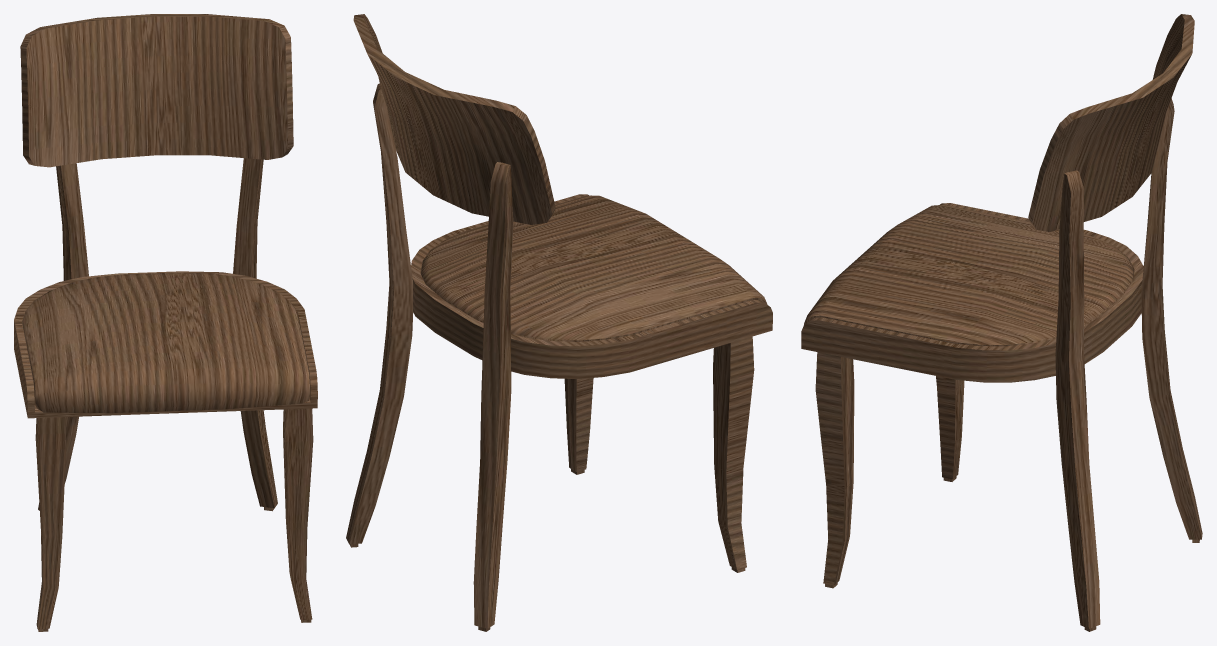
Rendered from darkbrownChair.glb.
The picture shows the model from 3 angles, left to right: view 1: azimuth 30°, elevation 25°; view 2: azimuth 150°, elevation 25°; view 3: azimuth 270°, elevation 25°; orthographic projection. The views are drawn at different scales.
Parts seen in each view (by area): view 1: bk, top2, leg, bk leg, top; view 2: top2, bk leg, bk, top, leg; view 3: top2, bk leg, bk, top, leg.
Part boxes in pixels (left/top/right/bottom): bk: left=20, top=14, right=293, bottom=167; top2: left=23, top=272, right=309, bottom=413; leg: left=35, top=408, right=313, bottom=631; bk leg: left=38, top=158, right=277, bottom=511; top: left=14, top=271, right=317, bottom=418; top2: left=421, top=195, right=766, bottom=341; bk leg: left=346, top=83, right=513, bottom=631; bk: left=353, top=14, right=555, bottom=224; top: left=411, top=194, right=772, bottom=378; leg: left=564, top=336, right=754, bottom=572; top2: left=804, top=205, right=1133, bottom=346; bk leg: left=1055, top=98, right=1202, bottom=631; bk: left=1028, top=14, right=1194, bottom=231; top: left=801, top=203, right=1143, bottom=382; leg: left=815, top=352, right=964, bottom=588.
Size of the model in its own units: 1.01 by 1.46 by 1.02.
Materials: 1 (1 with a texture image).
